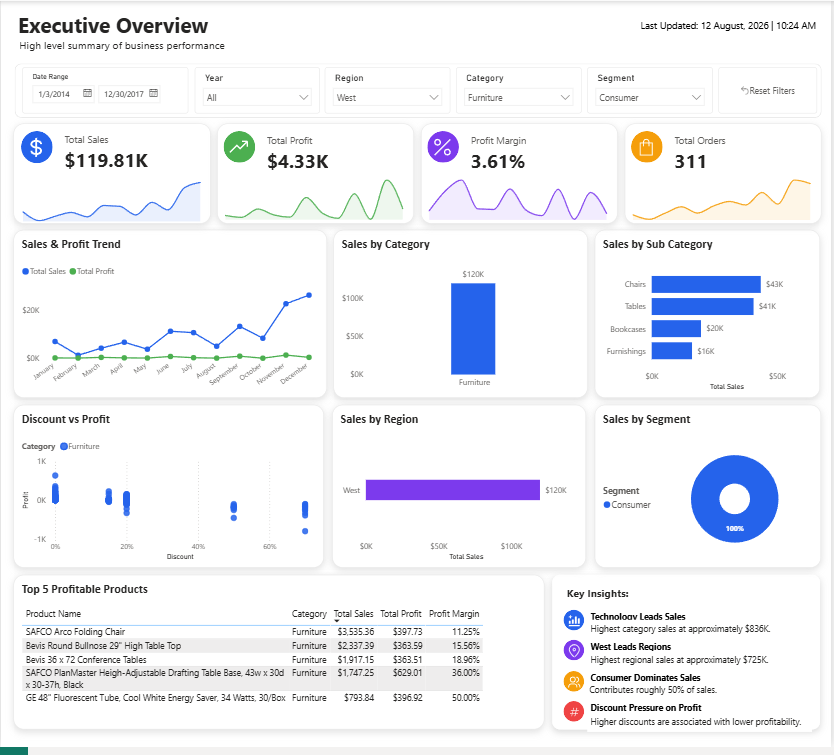

The dashboard page shown, as its layout file describes it:
{"tool":"powerbi","page":{"name":"Executive Overview","canvas":[1280,1150],"ordinal":0},"visuals":[{"type":"shape","box":[19,188,304,154],"z":0,"group":"g2"},{"type":"shape","box":[333,188,303,154],"z":0,"group":"g4"},{"type":"shape","box":[647,188,303,154],"z":0,"group":"g5"},{"type":"shape","box":[961,188,303,154],"z":0,"group":"g6"},{"type":"lineChart","title":"Sales & Profit Trend","fields":{"Category":["Calendar.Month"],"Y":["Superstore.Total Sales","Superstore.Total Profit"]},"box":[19,353,483,259],"z":0},{"type":"cardVisual","fields":{"Data":["Superstore.Total Sales"]},"box":[80,197,208,69],"z":1000,"group":"g2"},{"type":"cardVisual","fields":{"Data":["Superstore.Total Profit"]},"box":[393,199,207.9,69],"z":1000,"group":"g4"},{"type":"cardVisual","fields":{"Data":["Superstore.Profit Margin"]},"box":[707,199,207.9,69],"z":1000,"group":"g5"},{"type":"cardVisual","fields":{"Data":["Superstore.Total Orders"]},"box":[1021,199,207.9,69],"z":1000,"group":"g6"},{"type":"columnChart","title":"Sales by Category","fields":{"Y":["Superstore.Total Sales"],"Category":["Superstore.Category"]},"box":[512,353,392,259],"z":1000},{"type":"areaChart","fields":{"Category":["Calendar.Month"],"Y":["Superstore.Total Profit"]},"box":[332,261.3,303,80.7],"z":2000,"group":"g4"},{"type":"areaChart","fields":{"Category":["Calendar.Month"],"Y":["Superstore.Profit Margin"]},"box":[646,261.3,303,80.7],"z":2000,"group":"g5"},{"type":"areaChart","fields":{"Category":["Calendar.Month"],"Y":["Superstore.Total Orders"]},"box":[960,261.3,303,80.7],"z":2000,"group":"g6"},{"type":"areaChart","fields":{"Y":["Superstore.Total Sales"],"Category":["Calendar.Month"]},"box":[19,265,303,79],"z":2000,"group":"g2"},{"type":"clusteredBarChart","title":"Sales by Sub Category","fields":{"Y":["Superstore.Total Sales"],"Category":["Superstore.Sub-Category"]},"box":[916,353,347,259],"z":2000},{"type":"scatterChart","title":"Discount vs Profit","fields":{"X":["Superstore.Discount"],"Y":["Superstore.Profit"],"Series":["Superstore.Category"]},"box":[18.6,622.9,478.6,251.4],"z":3000},{"type":"clusteredBarChart","title":"Sales by Region","fields":{"Y":["Superstore.Total Sales"],"Category":["Superstore.Region"]},"box":[511.4,622.9,391.4,251.4],"z":4000},{"type":"donutChart","title":"Sales by Segment","fields":{"Y":["Superstore.Total Sales"],"Category":["Superstore.Segment"]},"box":[915.7,622.9,348.6,251.4],"z":5000},{"type":"tableEx","title":"Top 5 Profitable Products","fields":{"Values":["Superstore.Product Name","Superstore.Category","Superstore.Total Sales","Superstore.Total Profit","Superstore.Profit Margin"]},"box":[18.8,885,818.8,238.8],"z":6000},{"type":"group","id":"g1","title":"Group 2","box":[21,96,1243.7,83.7],"z":7000},{"type":"group","id":"g2","title":"Group 1","box":[19,188,304,156],"z":7000,"group":"g3"},{"type":"shape","box":[21,96,1243.8,83.8],"z":8000,"group":"g1"},{"type":"group","id":"g3","title":"Group 4","box":[19,188,304,156],"z":8000},{"type":"group","id":"g4","title":"Group 4","box":[332,188,304,154],"z":9000},{"type":"shape","box":[344.4,199,49,49],"z":9000,"group":"g7"},{"type":"shape","box":[658.4,199,49,49],"z":9000,"group":"g8"},{"type":"shape","box":[972.4,199,49,49],"z":9000,"group":"g9"},{"type":"shape","box":[31,199.8,49,49.8],"z":9000,"group":"g10"},{"type":"shape","box":[868.1,937.7,31.9,31.9],"z":9000,"group":"g11"},{"type":"shape","box":[868.1,985.1,31.9,31.9],"z":9000,"group":"g12"},{"type":"shape","box":[868.1,1032.5,31.9,31.9],"z":9000,"group":"g13"},{"type":"shape","box":[868.1,1080,31.9,31.9],"z":9000,"group":"g14"},{"type":"textbox","box":[22,10,329,59],"z":10000},{"type":"slicer","fields":{"Values":["Calendar.Year"]},"box":[298.2,102.1,193,71],"z":10000,"group":"g1"},{"type":"textbox","box":[23,52,340.9,33.6],"z":11000},{"type":"slicer","fields":{"Values":["Superstore.Region"]},"box":[499.6,102.5,193.3,71.3],"z":11000,"group":"g1"},{"type":"textbox","box":[981,23,281,34],"z":12000},{"type":"slicer","fields":{"Values":["Superstore.Category"]},"box":[701.6,102.5,193.3,71.3],"z":12000,"group":"g1"},{"type":"slicer","fields":{"Values":["Superstore.Segment"]},"box":[903.6,102.5,193.3,71.3],"z":13000,"group":"g1"},{"type":"group","id":"g5","title":"Group 4","box":[646,188,304,154],"z":13000},{"type":"slicer","fields":{"Values":["Calendar.Date"]},"box":[33.2,102.1,256,71],"z":14000,"group":"g1"},{"type":"group","id":"g6","title":"Group 4","box":[960,188,304,154],"z":14000},{"type":"actionButton","box":[1104.9,102.5,152,71.3],"z":15000,"group":"g1"},{"type":"shape","box":[849.8,885,412.5,238.8],"z":15000},{"type":"image","box":[348.9,206.9,39.3,34.8],"z":15002,"group":"g7"},{"type":"image","box":[662.9,206.9,39.3,34.8],"z":15002,"group":"g8"},{"type":"image","box":[976.9,206.9,39.3,34.8],"z":15002,"group":"g9"},{"type":"image","box":[35.5,207.8,39.3,35.3],"z":15002,"group":"g10"},{"type":"image","box":[915.5,684.9,39.3,6],"z":15002,"group":"g15"},{"type":"image","box":[871,942.8,25.6,22.6],"z":15002,"group":"g11"},{"type":"image","box":[871,990.2,25.6,22.6],"z":15002,"group":"g12"},{"type":"image","box":[871,1037.6,25.6,22.6],"z":15002,"group":"g13"},{"type":"image","box":[871,1085.1,25.6,22.6],"z":15002,"group":"g14"},{"type":"group","id":"g7","title":"Group 3","box":[344.4,199,49,49],"z":15003,"group":"g4"},{"type":"group","id":"g8","title":"Group 3","box":[658.4,199,49,49],"z":15003,"group":"g5"},{"type":"group","id":"g9","title":"Group 3","box":[972.4,199,49,49],"z":15003,"group":"g6"},{"type":"group","id":"g10","title":"Group 3","box":[31,199.8,49,49.8],"z":15003,"group":"g3"},{"type":"textbox","box":[867.8,896,106,34],"z":16000},{"type":"group","id":"g11","title":"Group 3","box":[868.1,937.7,31.7,31.7],"z":16000,"group":"g16"},{"type":"group","id":"g12","title":"Group 3","box":[868.1,985.1,31.7,31.7],"z":16000,"group":"g17"},{"type":"group","id":"g13","title":"Group 3","box":[868.1,1032.5,31.7,31.7],"z":16000,"group":"g18"},{"type":"group","id":"g14","title":"Group 3","box":[868.1,1080,31.7,31.7],"z":16000,"group":"g19"},{"type":"group","id":"g15","title":"Group 3","box":[915.5,684.9,39.3,6],"z":17000},{"type":"group","id":"g16","title":"Group 5","box":[868.1,934.1,381.2,49.9],"z":18000},{"type":"textbox","box":[905.4,934.1,170.9,34.5],"z":18000,"group":"g16"},{"type":"textbox","box":[904.5,981.8,154.5,34.5],"z":18000,"group":"g17"},{"type":"textbox","box":[905.4,1029,188.2,34.5],"z":18000,"group":"g18"},{"type":"textbox","box":[905.4,1075.3,196.4,35.5],"z":18000,"group":"g19"},{"type":"group","id":"g17","title":"Group 5","box":[868.1,981.8,369.6,50.3],"z":19000},{"type":"textbox","box":[904.3,954,345,30],"z":20000,"group":"g16"},{"type":"textbox","box":[903.9,1002.1,333.8,30],"z":20000,"group":"g17"},{"type":"group","id":"g18","title":"Group 5","box":[868.1,1029,385.2,50],"z":20000},{"type":"textbox","box":[903.3,1049,350,30],"z":20000,"group":"g18"},{"type":"textbox","box":[904.3,1096.2,346.2,30],"z":20000,"group":"g19"},{"type":"group","id":"g19","title":"Group 5","box":[868.1,1075.3,382.5,50.9],"z":21000}]}

Visuals, with their boxes in screenshot pixels (x1, y1, x2, y2), scaled from the page's 1280x1150 canvas onto the 834x755 screenshot:
shape: bbox=[12, 123, 210, 225]
shape: bbox=[217, 123, 414, 225]
shape: bbox=[422, 123, 619, 225]
shape: bbox=[626, 123, 824, 225]
"Sales & Profit Trend" lineChart: bbox=[12, 232, 327, 402]
cardVisual - Superstore.Total Sales: bbox=[52, 129, 188, 175]
cardVisual - Superstore.Total Profit: bbox=[256, 131, 392, 176]
cardVisual - Superstore.Profit Margin: bbox=[461, 131, 596, 176]
cardVisual - Superstore.Total Orders: bbox=[665, 131, 801, 176]
"Sales by Category" columnChart: bbox=[334, 232, 589, 402]
areaChart - Calendar.Month x Superstore.Total Profit: bbox=[216, 172, 414, 225]
areaChart - Calendar.Month x Superstore.Profit Margin: bbox=[421, 172, 618, 225]
areaChart - Calendar.Month x Superstore.Total Orders: bbox=[626, 172, 823, 225]
areaChart - Superstore.Total Sales x Calendar.Month: bbox=[12, 174, 210, 226]
"Sales by Sub Category" clusteredBarChart: bbox=[597, 232, 823, 402]
"Discount vs Profit" scatterChart: bbox=[12, 409, 324, 574]
"Sales by Region" clusteredBarChart: bbox=[333, 409, 588, 574]
"Sales by Segment" donutChart: bbox=[597, 409, 824, 574]
"Top 5 Profitable Products" tableEx: bbox=[12, 581, 546, 738]
"Group 2" group: bbox=[14, 63, 824, 118]
"Group 1" group: bbox=[12, 123, 210, 226]
shape: bbox=[14, 63, 824, 118]
"Group 4" group: bbox=[12, 123, 210, 226]
"Group 4" group: bbox=[216, 123, 414, 225]
shape: bbox=[224, 131, 256, 163]
shape: bbox=[429, 131, 461, 163]
shape: bbox=[634, 131, 666, 163]
shape: bbox=[20, 131, 52, 164]
shape: bbox=[566, 616, 586, 637]
shape: bbox=[566, 647, 586, 668]
shape: bbox=[566, 678, 586, 699]
shape: bbox=[566, 709, 586, 730]
textbox: bbox=[14, 7, 229, 45]
slicer - Calendar.Year: bbox=[194, 67, 320, 114]
textbox: bbox=[15, 34, 237, 56]
slicer - Superstore.Region: bbox=[326, 67, 451, 114]
textbox: bbox=[639, 15, 822, 37]
slicer - Superstore.Category: bbox=[457, 67, 583, 114]
slicer - Superstore.Segment: bbox=[589, 67, 715, 114]
"Group 4" group: bbox=[421, 123, 619, 225]
slicer - Calendar.Date: bbox=[22, 67, 188, 114]
"Group 4" group: bbox=[626, 123, 824, 225]
actionButton: bbox=[720, 67, 819, 114]
shape: bbox=[554, 581, 822, 738]
image: bbox=[227, 136, 253, 159]
image: bbox=[432, 136, 458, 159]
image: bbox=[637, 136, 662, 159]
image: bbox=[23, 136, 49, 160]
image: bbox=[597, 450, 622, 454]
image: bbox=[568, 619, 584, 634]
image: bbox=[568, 650, 584, 665]
image: bbox=[568, 681, 584, 696]
image: bbox=[568, 712, 584, 727]
"Group 3" group: bbox=[224, 131, 256, 163]
"Group 3" group: bbox=[429, 131, 461, 163]
"Group 3" group: bbox=[634, 131, 666, 163]
"Group 3" group: bbox=[20, 131, 52, 164]
textbox: bbox=[565, 588, 634, 611]
"Group 3" group: bbox=[566, 616, 586, 636]
"Group 3" group: bbox=[566, 647, 586, 668]
"Group 3" group: bbox=[566, 678, 586, 699]
"Group 3" group: bbox=[566, 709, 586, 730]
"Group 3" group: bbox=[597, 450, 622, 454]
"Group 5" group: bbox=[566, 613, 814, 646]
textbox: bbox=[590, 613, 701, 636]
textbox: bbox=[589, 645, 690, 667]
textbox: bbox=[590, 676, 713, 698]
textbox: bbox=[590, 706, 718, 729]
"Group 5" group: bbox=[566, 645, 806, 678]
textbox: bbox=[589, 626, 814, 646]
textbox: bbox=[589, 658, 806, 678]
"Group 5" group: bbox=[566, 676, 817, 708]
textbox: bbox=[589, 689, 817, 708]
textbox: bbox=[589, 720, 815, 739]
"Group 5" group: bbox=[566, 706, 815, 739]
